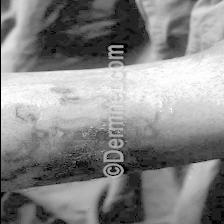Toxin: (6, 103, 34, 125), (48, 84, 76, 104), (132, 118, 154, 138)
